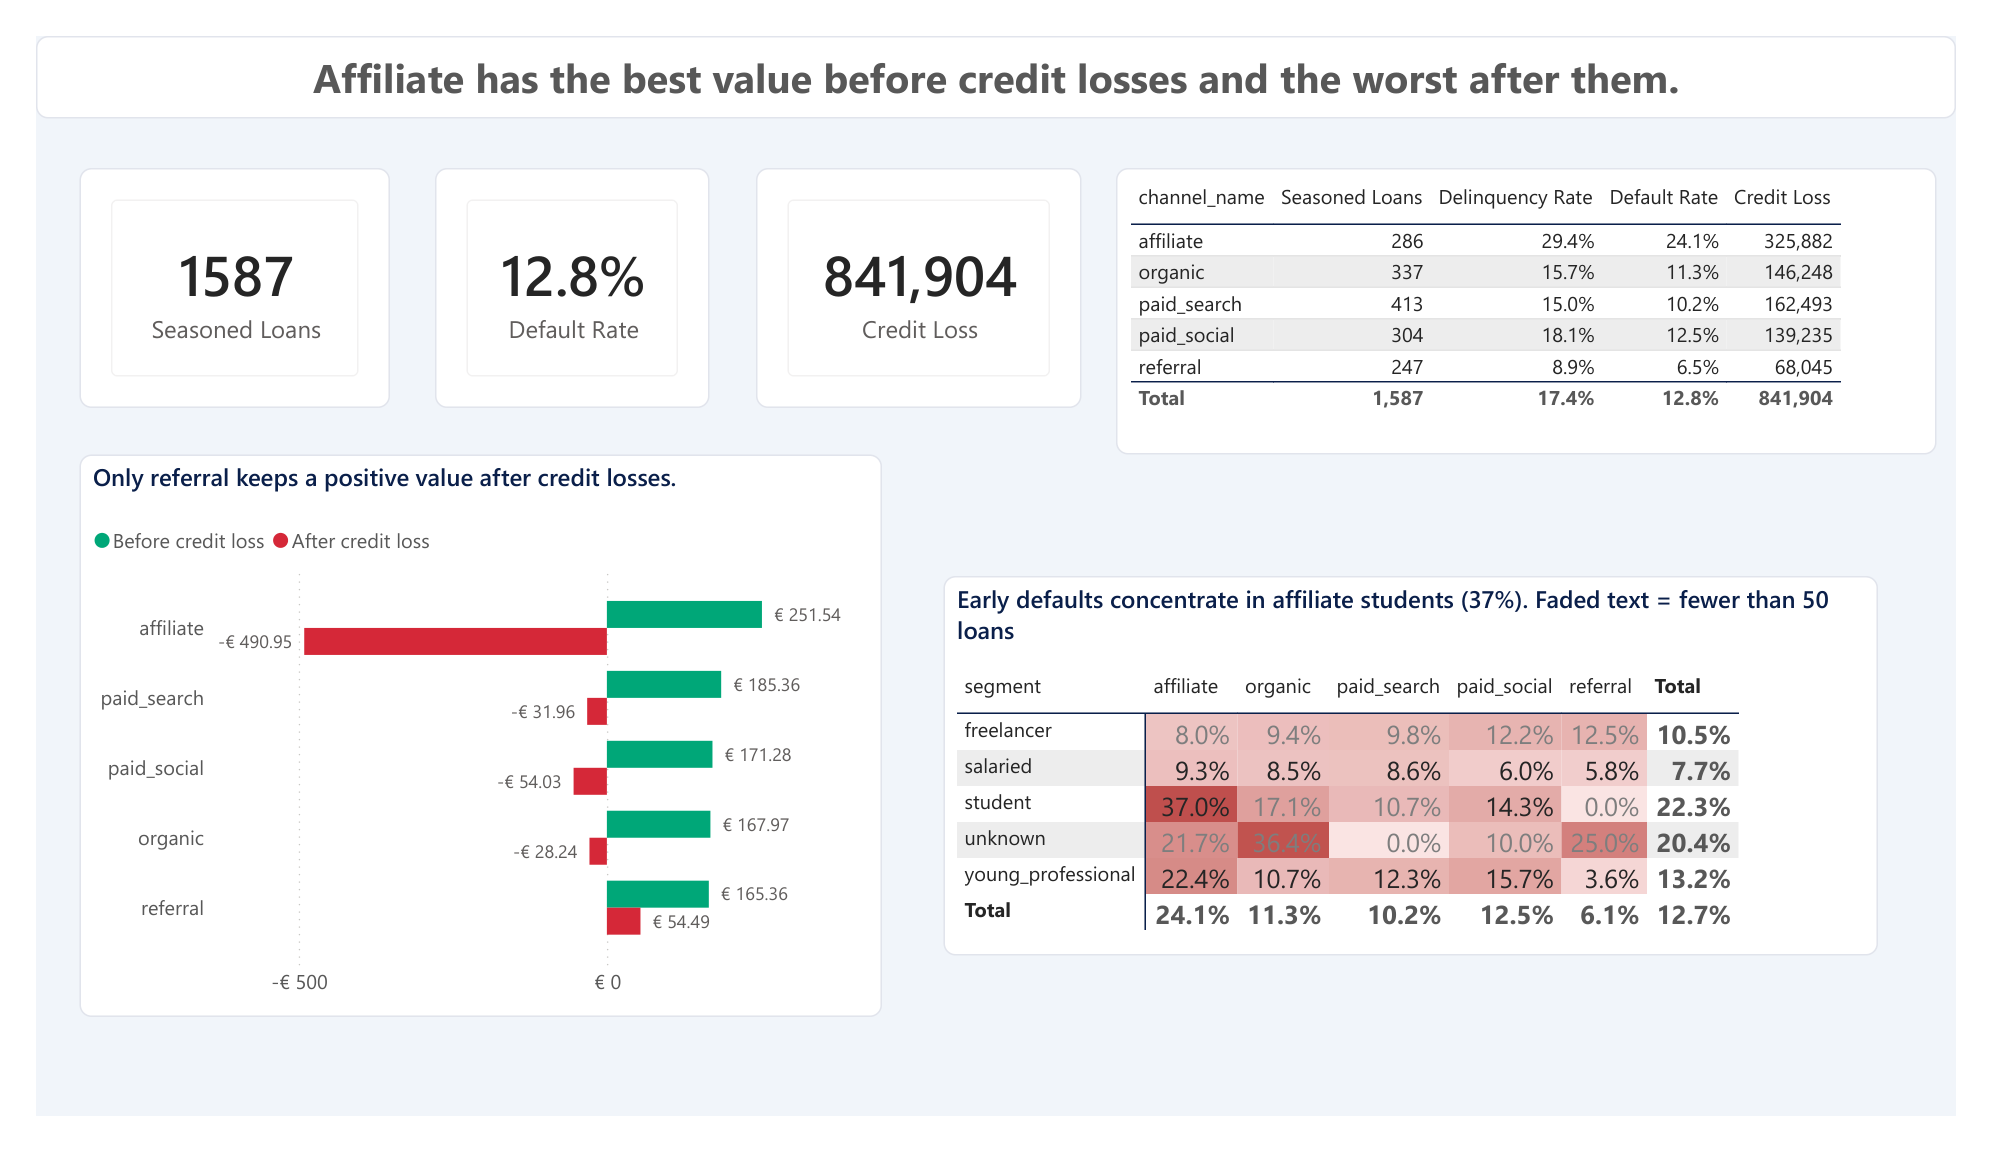

What the dashboard file says about the page in this screenshot:
{"tool":"powerbi","page":{"name":"Credit risk","canvas":[1280,720],"ordinal":3},"visuals":[{"type":"textbox","box":[0,0,1279.8,55.2],"z":0},{"type":"cardVisual","fields":{"Data":["_Measures.Seasoned Loans"]},"box":[29.4,88.3,206.1,159.5],"z":1},{"type":"cardVisual","fields":{"Data":["_Measures.Default Rate"]},"box":[266.3,88.3,182.8,159.5],"z":2},{"type":"cardVisual","fields":{"Data":["_Measures.Credit Loss"]},"box":[479.8,88.3,217.2,159.5],"z":3},{"type":"clusteredBarChart","title":"Only referral keeps a positive value after credit losses.","fields":{"Category":["dim channel.channel_name"],"Y":["_Measures.LTV 12m","_Measures.Risk-adjusted LTV"]},"box":[29.4,278.5,535,375.5],"z":4},{"type":"tableEx","fields":{"Values":["dim channel.channel_name","_Measures.Seasoned Loans","_Measures.Delinquency Rate","_Measures.Default Rate","_Measures.Credit Loss"]},"box":[720.2,88.3,547.2,190.2],"z":5},{"type":"pivotTable","title":"Early defaults concentrate in affiliate students (37%). Faded text = fewer than 50 loans","fields":{"Columns":["dim channel.channel_name"],"Rows":["rpt v_credit_by_segment.segment"],"Values":["_Measures.Early Default Rate by Cell"]},"box":[605,360,623,253],"z":6}]}

Visuals, with their boxes in screenshot pixels (x1, y1, x2, y2), scaled from the page's 1280x720 canvas onto the 1992x1152 screenshot:
textbox: locate(0, 0, 1991, 88)
cardVisual - _Measures.Seasoned Loans: locate(46, 141, 366, 396)
cardVisual - _Measures.Default Rate: locate(414, 141, 699, 396)
cardVisual - _Measures.Credit Loss: locate(747, 141, 1085, 396)
"Only referral keeps a positive value after credit losses." clusteredBarChart: locate(46, 446, 878, 1046)
tableEx - dim channel.channel_name x _Measures.Seasoned Loans: locate(1121, 141, 1972, 446)
"Early defaults concentrate in affiliate students (37%). Faded text = fewer than 50 loans" pivotTable: locate(942, 576, 1911, 981)
